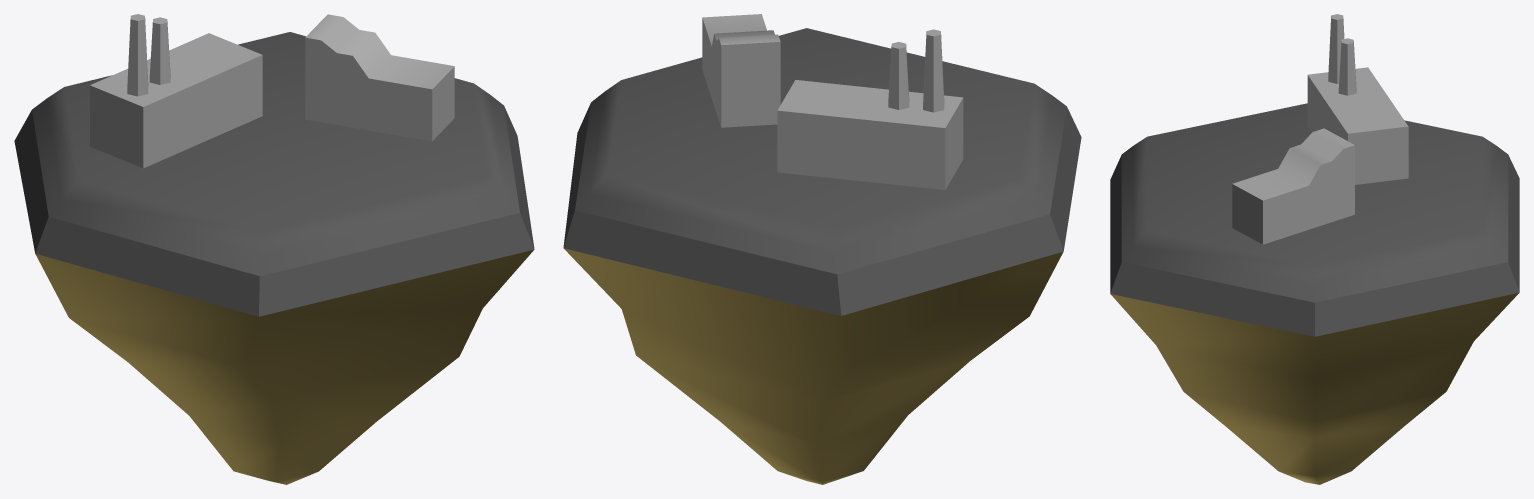
The model's file is Industry_testland.fbx.
3 views of the same model, side by side, from view 1: azimuth 30°, elevation 25°; view 2: azimuth 150°, elevation 25°; view 3: azimuth 270°, elevation 25° (orthographic). The views are drawn at different scales.
Visible parts, largest first — view 1: iland, pCube1, pCube2, pCylinder1, pCylinder2; view 2: iland, pCube1, pCube2, pCylinder1, pCylinder2; view 3: iland, pCube2, pCube1, pCylinder2, pCylinder1.
Boxes of the visible parts, <box> form: iland: <box>14,32,534,484</box>; pCube1: <box>90,33,262,168</box>; pCube2: <box>305,14,454,141</box>; pCylinder1: <box>127,14,148,96</box>; pCylinder2: <box>149,17,170,84</box>; iland: <box>563,28,1081,484</box>; pCube1: <box>777,80,963,189</box>; pCube2: <box>702,14,780,127</box>; pCylinder1: <box>923,29,944,112</box>; pCylinder2: <box>888,42,909,109</box>; iland: <box>1110,103,1519,484</box>; pCube2: <box>1232,128,1354,244</box>; pCube1: <box>1307,67,1408,184</box>; pCylinder2: <box>1338,38,1356,95</box>; pCylinder1: <box>1328,14,1344,83</box>.
Bounding box in the file's own units: 11.53 × 11.08 × 9.99.
